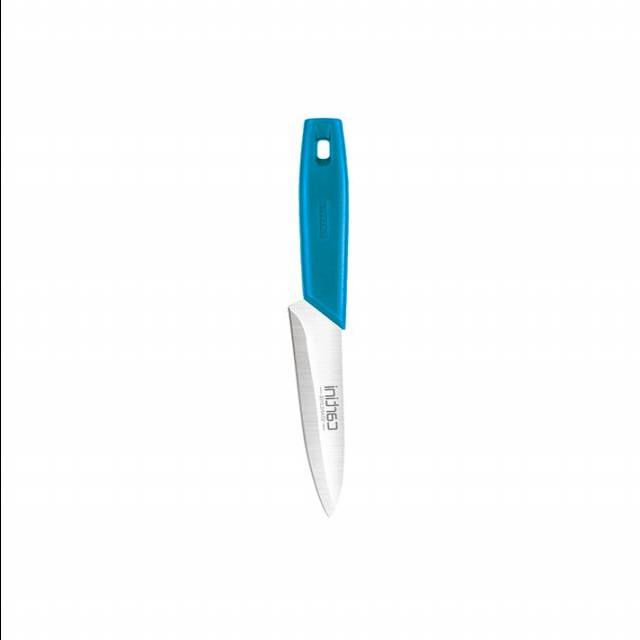knife: (278, 109, 357, 523)
